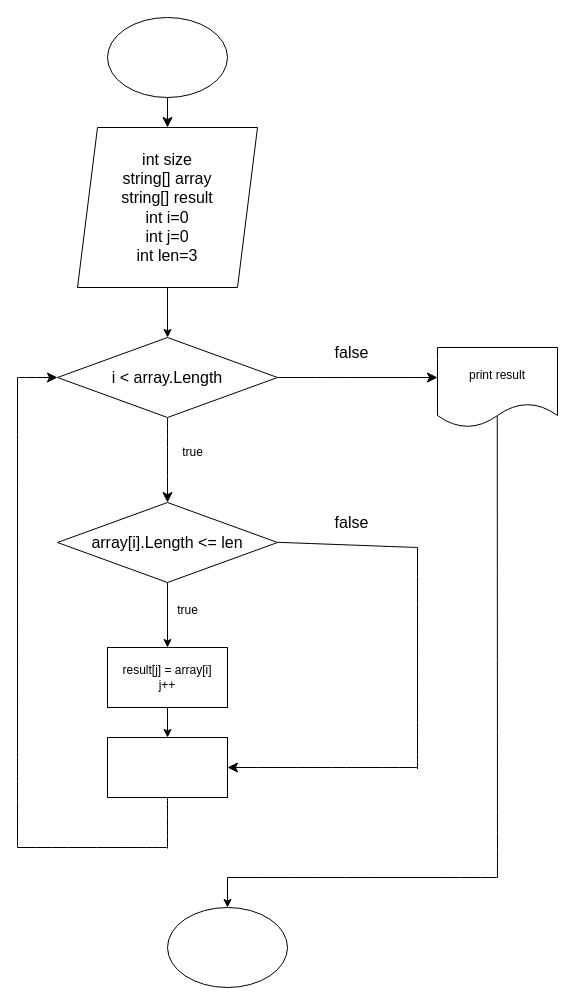
Some shapes in this 575 by 1005 pixel diagram are drawn without their labels. Each missing label, with the centre of its shape:
end: point 227,947
i++: point 167,767
start: point 167,57
